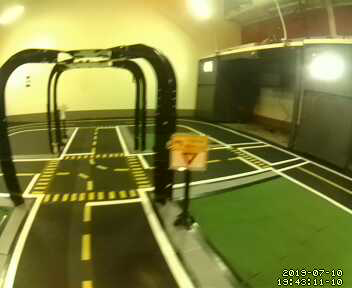Turn Yield: (169, 132, 209, 172)
